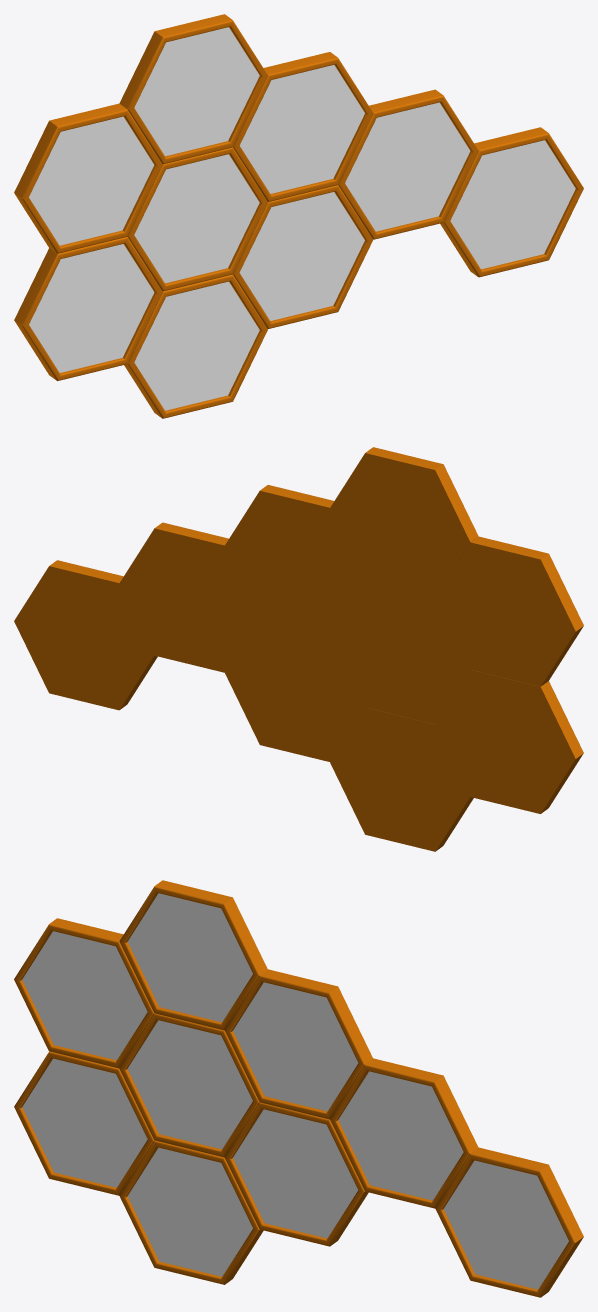
File: Honeycomb Mirror.glb
The picture shows the model from 3 angles, top to bottom: view 1: azimuth 30°, elevation 25°; view 2: azimuth 150°, elevation 25°; view 3: azimuth 330°, elevation 25°; orthographic projection.
Visible parts, largest first — view 1: Mirror.004_0, Mirror.005_1, Mirror.006_2; view 2: Mirror.004_0, Mirror.005_1, Mirror.006_2; view 3: Mirror.004_0, Mirror.005_1, Mirror.006_2.
Part boxes in pixels (x1=…): Mirror.004_0: x1=119, y1=14, x2=583, y2=277; Mirror.005_1: x1=14, y1=103, x2=372, y2=328; Mirror.006_2: x1=14, y1=237, x2=267, y2=418; Mirror.004_0: x1=14, y1=447, x2=478, y2=710; Mirror.005_1: x1=225, y1=536, x2=583, y2=761; Mirror.006_2: x1=330, y1=669, x2=583, y2=851; Mirror.004_0: x1=119, y1=880, x2=583, y2=1297; Mirror.005_1: x1=14, y1=918, x2=368, y2=1246; Mirror.006_2: x1=14, y1=1051, x2=263, y2=1284.
Size of the model in its own units: 3.68 by 2.39 by 0.1.
